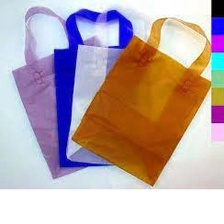plastic_bag: (69, 14, 218, 188), (6, 1, 113, 181), (64, 0, 161, 168), (54, 8, 145, 172)
